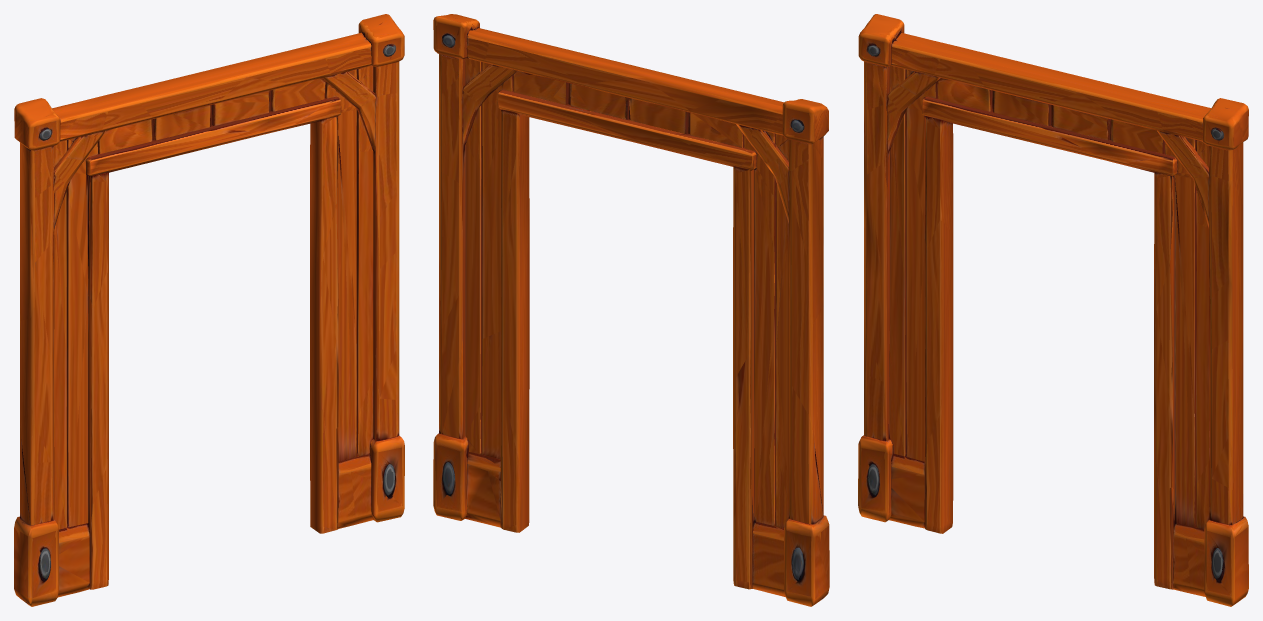
The model's file is doorway.glb.
The picture shows the model from 3 angles, left to right: view 1: azimuth 30°, elevation 25°; view 2: azimuth 150°, elevation 25°; view 3: azimuth 330°, elevation 25°; orthographic projection.
Visible parts, largest first — view 1: doorway; view 2: doorway; view 3: doorway.
Boxes of the visible parts, box(x1,y1,x2,y2) form: doorway: box(14, 14, 404, 606); doorway: box(433, 14, 829, 606); doorway: box(858, 14, 1248, 606).
Size of the model in its own units: 2 by 2.5 by 0.1601.
1 material, 1 textured.
